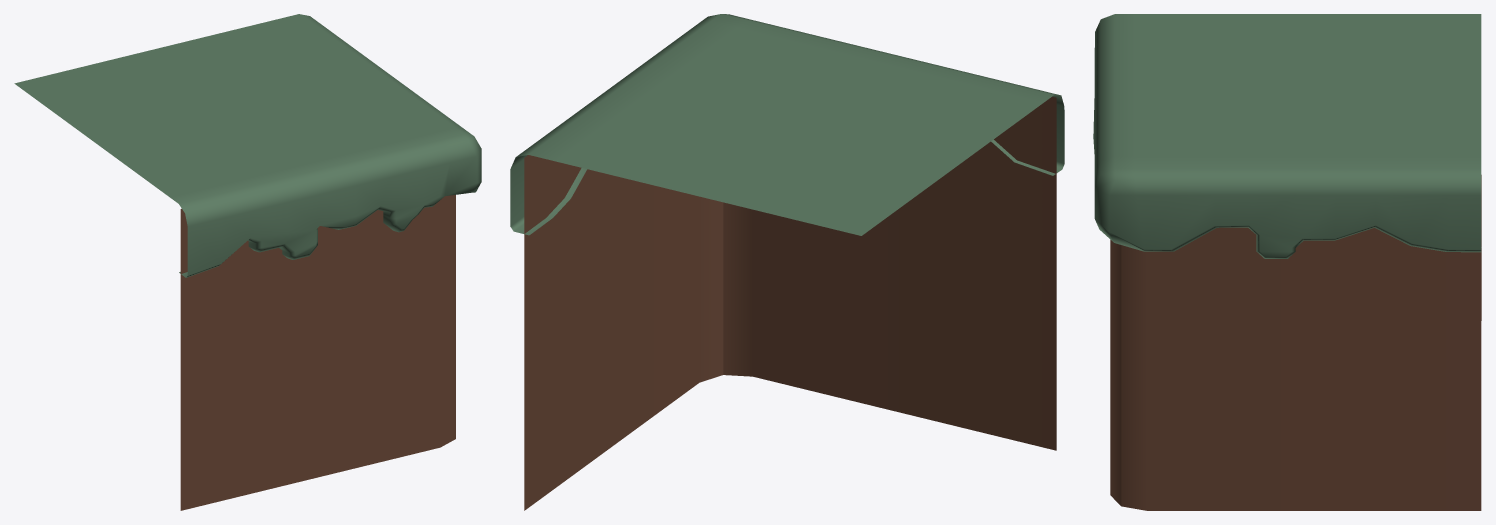
File: Esquina_grass_1.fbx
3 renders of one model, left to right at view 1: azimuth 30°, elevation 25°; view 2: azimuth 150°, elevation 25°; view 3: azimuth 270°, elevation 25°, orthographic. The views are drawn at different scales.
Parts seen in each view (by area): view 1: polySurface3, pCube9; view 2: pCube9, polySurface3; view 3: pCube9, polySurface3.
Boxes of the visible parts, x1,y1,x2,y2 form: polySurface3: (14,14,481,277); pCube9: (180,195,455,510); pCube9: (524,96,1056,510); polySurface3: (510,14,1064,235); pCube9: (1110,175,1481,510); polySurface3: (1093,14,1481,258).
Bounding box in the file's own units: 1.04 × 1.01 × 1.05.
